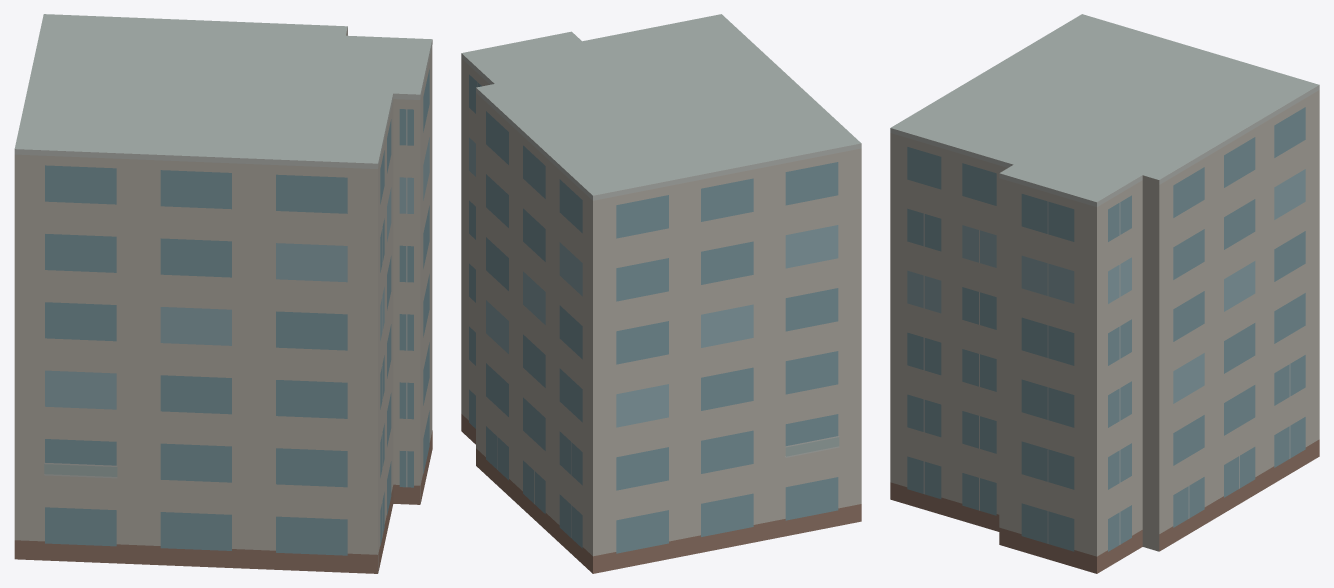
Rendered from survey-upis-33024682.glb.
3 renders of one model, left to right at view 1: azimuth 30°, elevation 25°; view 2: azimuth 150°, elevation 25°; view 3: azimuth 270°, elevation 25°, orthographic. The views are drawn at different scales.
Visible parts, largest first — view 1: survey-upis-33024682.tmp; view 2: survey-upis-33024682.tmp; view 3: survey-upis-33024682.tmp.
Boxes of the visible parts, <box> form: survey-upis-33024682.tmp: <box>14,14,432,573</box>; survey-upis-33024682.tmp: <box>461,14,861,573</box>; survey-upis-33024682.tmp: <box>890,14,1319,573</box>.
Size of the model in its own units: 19.9 by 18.3 by 19.17.
